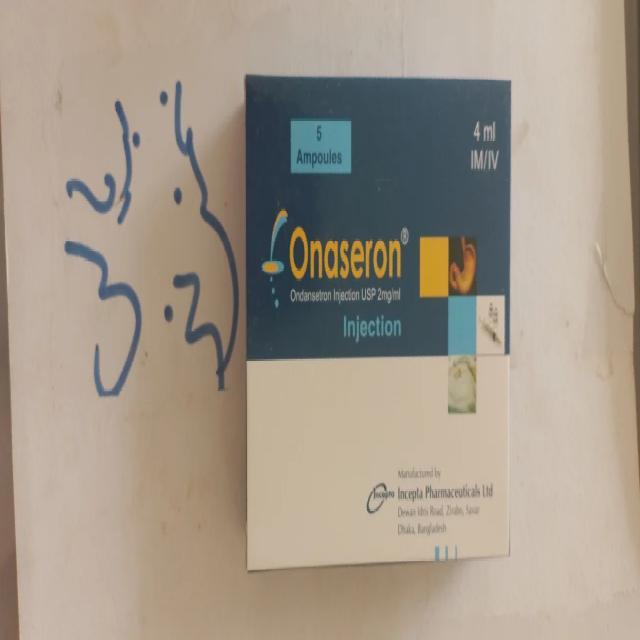drug-name: (286, 224, 401, 280)
